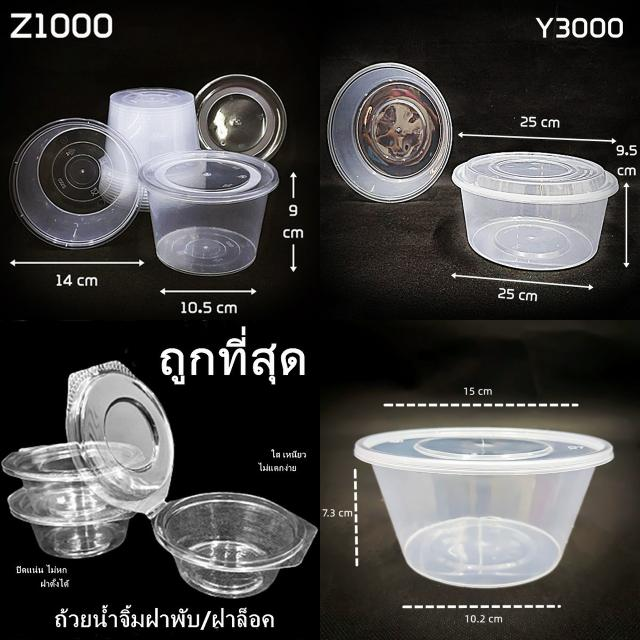Single-Use-Plastic: (50, 361, 316, 598), (354, 428, 612, 588), (452, 152, 619, 269), (139, 150, 279, 274), (328, 62, 452, 202), (10, 119, 142, 248), (2, 444, 135, 559), (195, 75, 286, 160)
